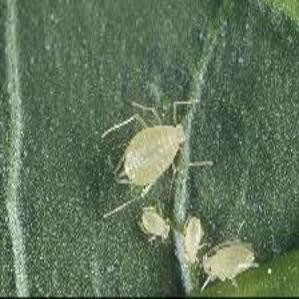Green peach aphid: (84, 79, 216, 201), (191, 236, 261, 293), (131, 202, 180, 251), (171, 211, 213, 265)
